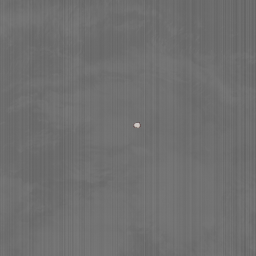Target: (133, 122, 141, 128)
